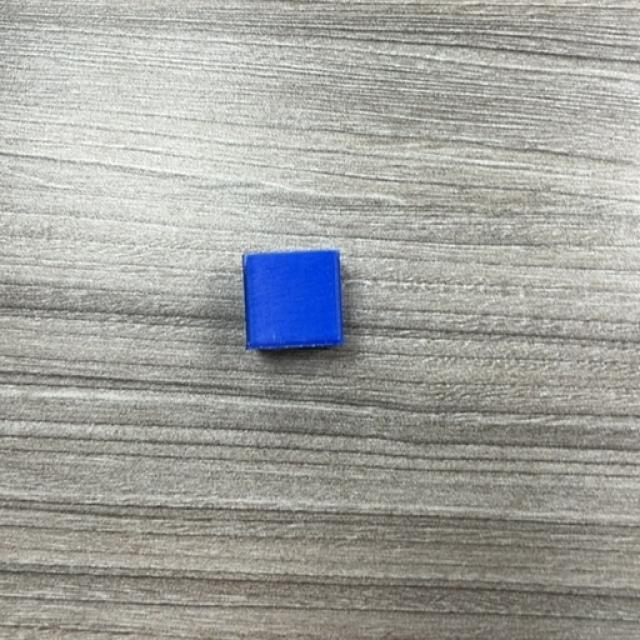Azul: (241, 250, 346, 352)
